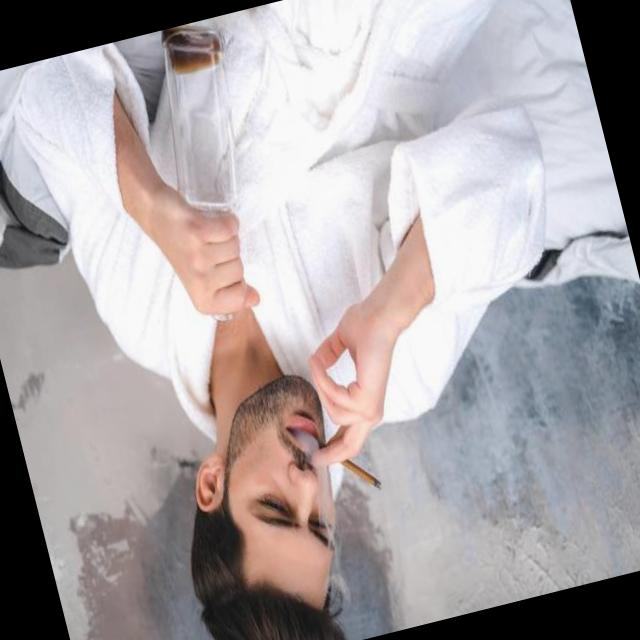smoke: (325, 428, 393, 514)
